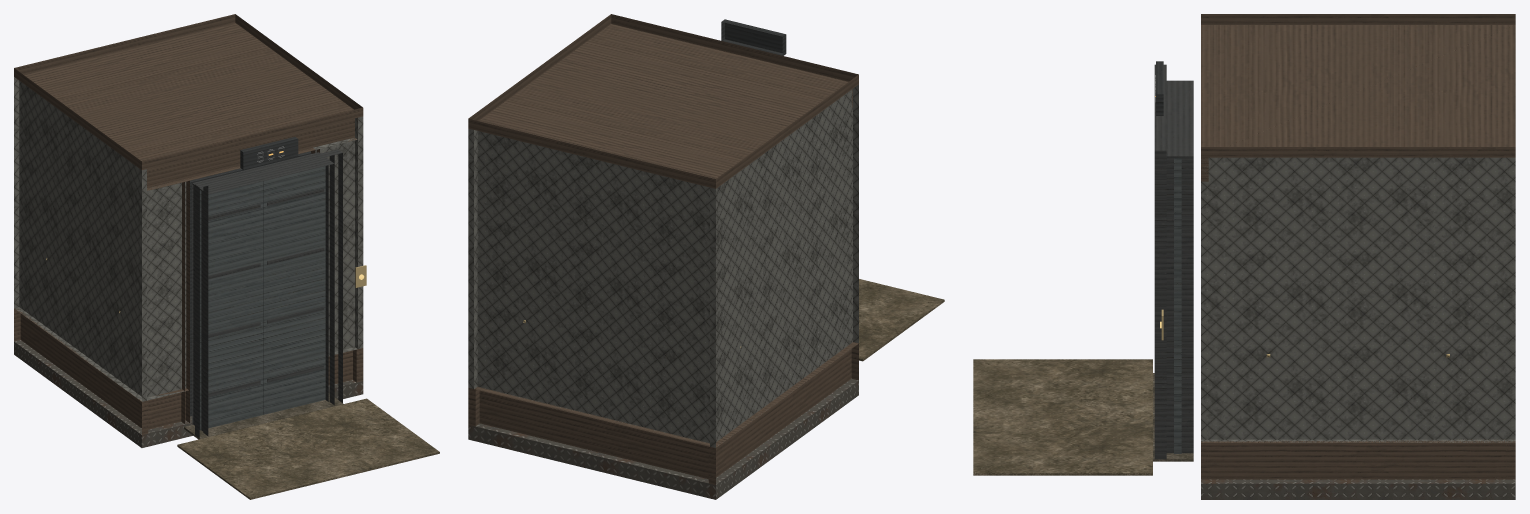
Rendered from elevator.glb.
3 renders of one model, left to right at view 1: azimuth 30°, elevation 25°; view 2: azimuth 150°, elevation 25°; view 3: azimuth 270°, elevation 25°, orthographic. The views are drawn at different scales.
Visible parts, largest first — view 1: elevator_car_Car_Wall_Quilted, elevator_car_Car_Rust, elevator_landing_Landing_Stone, LiftLeaf_R_Landing_Leaf, LiftLeaf_L_Landing_Leaf, elevator_landing_Landing_Frame, elevator_car_Car_Floor_Diamond, elevator_landing_Steel_Sill, elevator_landing_Car_Dark, LiftLeaf_R_Landing_Frame, elevator_car_Car_Dark, LiftLeaf_L_Landing_Frame; view 2: elevator_car_Car_Wall_Quilted, elevator_car_Car_Rust, elevator_car_Car_Floor_Diamond, elevator_landing_Landing_Stone, elevator_landing_Car_Dark; view 3: elevator_car_Car_Wall_Quilted, elevator_car_Car_Rust, elevator_landing_Landing_Stone, elevator_landing_Landing_Frame, elevator_car_Car_Floor_Diamond, LiftLeaf_R_Landing_Leaf.
Part boxes in pixels (x1,y1,x2,y2): elevator_car_Car_Wall_Quilted: (14, 77, 363, 401); elevator_car_Car_Rust: (14, 14, 363, 434); elevator_landing_Landing_Stone: (177, 398, 439, 499); LiftLeaf_R_Landing_Leaf: (263, 166, 325, 414); LiftLeaf_L_Landing_Leaf: (199, 181, 263, 430); elevator_landing_Landing_Frame: (192, 149, 342, 437); elevator_car_Car_Floor_Diamond: (14, 340, 363, 447); elevator_landing_Steel_Sill: (184, 393, 343, 439); elevator_landing_Car_Dark: (240, 137, 298, 169); LiftLeaf_R_Landing_Frame: (267, 188, 324, 382); elevator_car_Car_Dark: (190, 151, 311, 416); LiftLeaf_L_Landing_Frame: (208, 204, 260, 396); elevator_car_Car_Wall_Quilted: (468, 84, 858, 447); elevator_car_Car_Rust: (468, 14, 858, 484); elevator_car_Car_Floor_Diamond: (468, 378, 858, 499); elevator_landing_Landing_Stone: (859, 279, 944, 361); elevator_landing_Car_Dark: (721, 19, 786, 55); elevator_car_Car_Wall_Quilted: (1201, 157, 1515, 442); elevator_car_Car_Rust: (1201, 14, 1515, 479); elevator_landing_Landing_Stone: (973, 359, 1152, 475); elevator_landing_Landing_Frame: (1154, 64, 1193, 459); elevator_car_Car_Floor_Diamond: (1201, 479, 1515, 499); LiftLeaf_R_Landing_Leaf: (1174, 158, 1181, 453).
Size of the model in its own units: 2.1 by 2.62 by 3.62.
14 materials, 8 textured.
